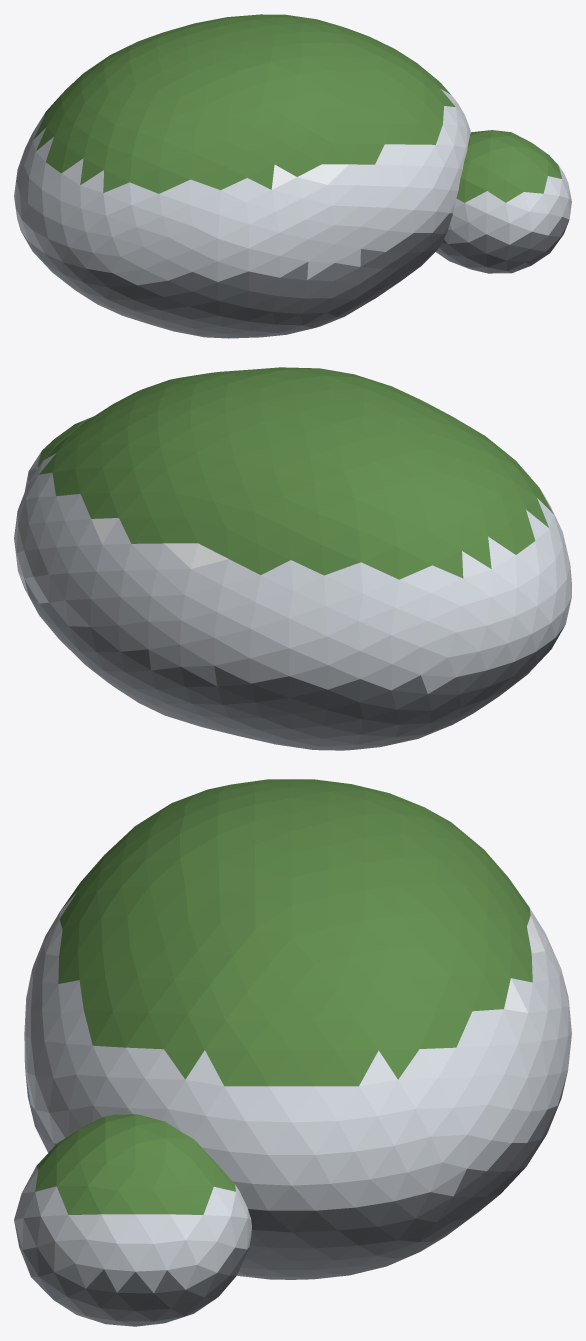
File: MossStone.obj
The picture shows the model from 3 angles, top to bottom: view 1: azimuth 30°, elevation 25°; view 2: azimuth 150°, elevation 25°; view 3: azimuth 270°, elevation 25°; orthographic projection. The views are drawn at different scales.
Bounding box in the file's own units: 2.34 × 1.28 × 1.61.
